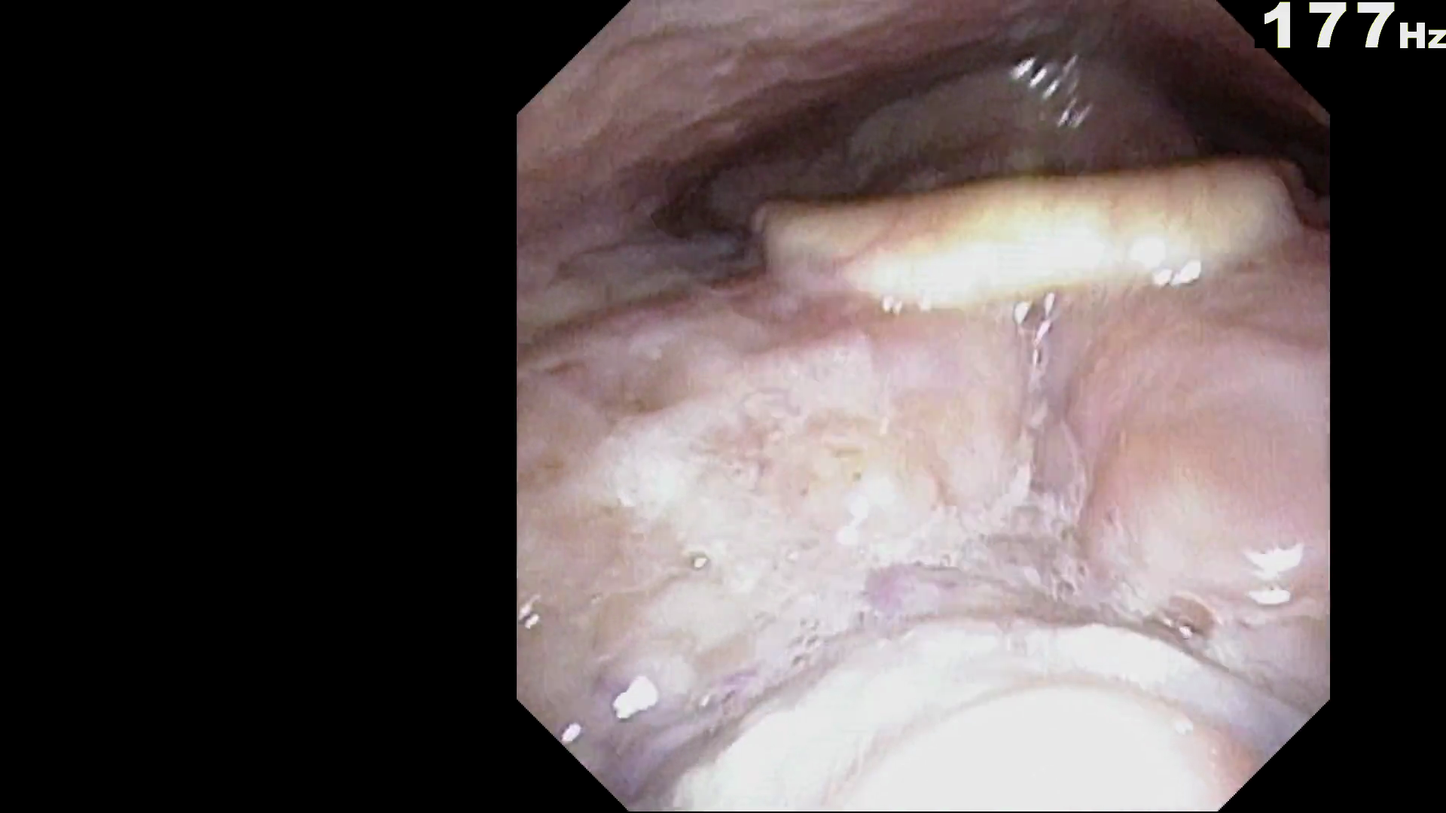epiglottis: (737, 189, 1311, 473)
trachea: (982, 144, 1129, 298)
